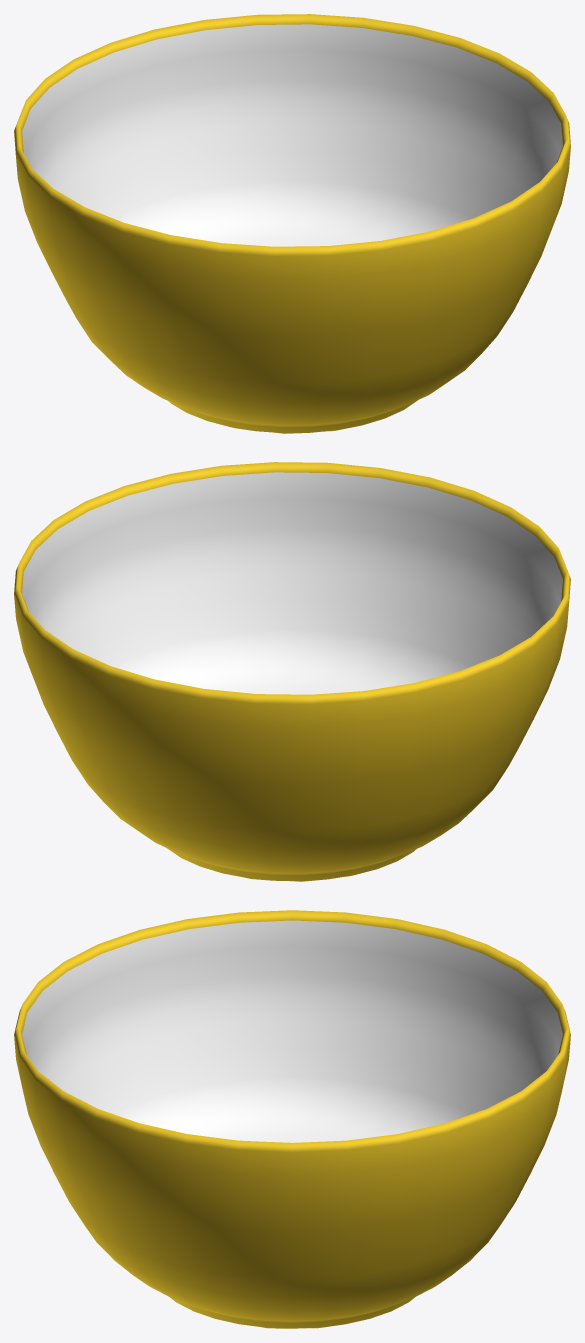
File: YellowBowl.fbx
3 views of the same model, one above another, from view 1: azimuth 30°, elevation 25°; view 2: azimuth 150°, elevation 25°; view 3: azimuth 270°, elevation 25° (orthographic).
Parts seen in each view (by area): view 1: MixingBowl3; view 2: MixingBowl3; view 3: MixingBowl3.
Boxes of the visible parts, bbox=[...] form: MixingBowl3: bbox=[14, 14, 570, 433]; MixingBowl3: bbox=[14, 462, 570, 881]; MixingBowl3: bbox=[14, 910, 570, 1328].
Bounding box in the file's own units: 12.15 × 6.03 × 12.15.
1 material, 1 textured.
